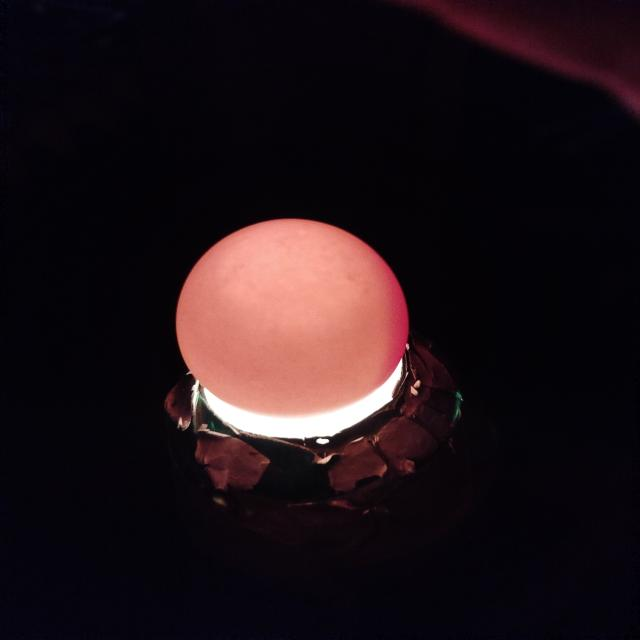Gema Quebrada: (378, 255, 409, 386)
